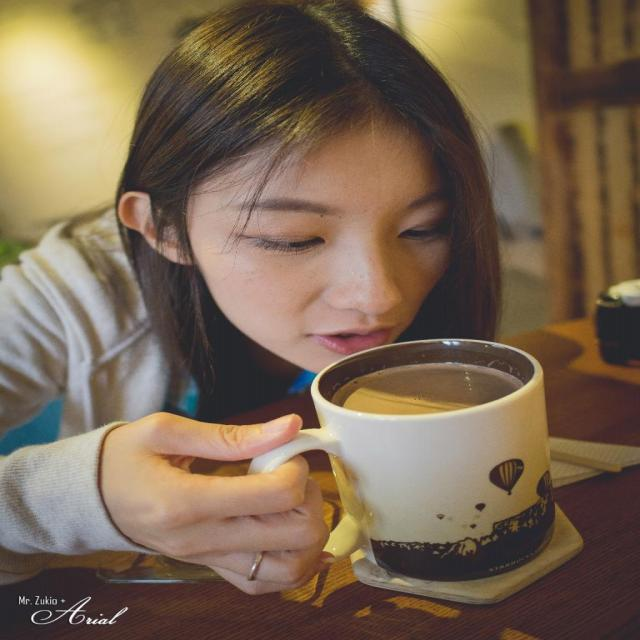Coffee: (328, 357, 523, 420)
Tea: (330, 364, 522, 416)
